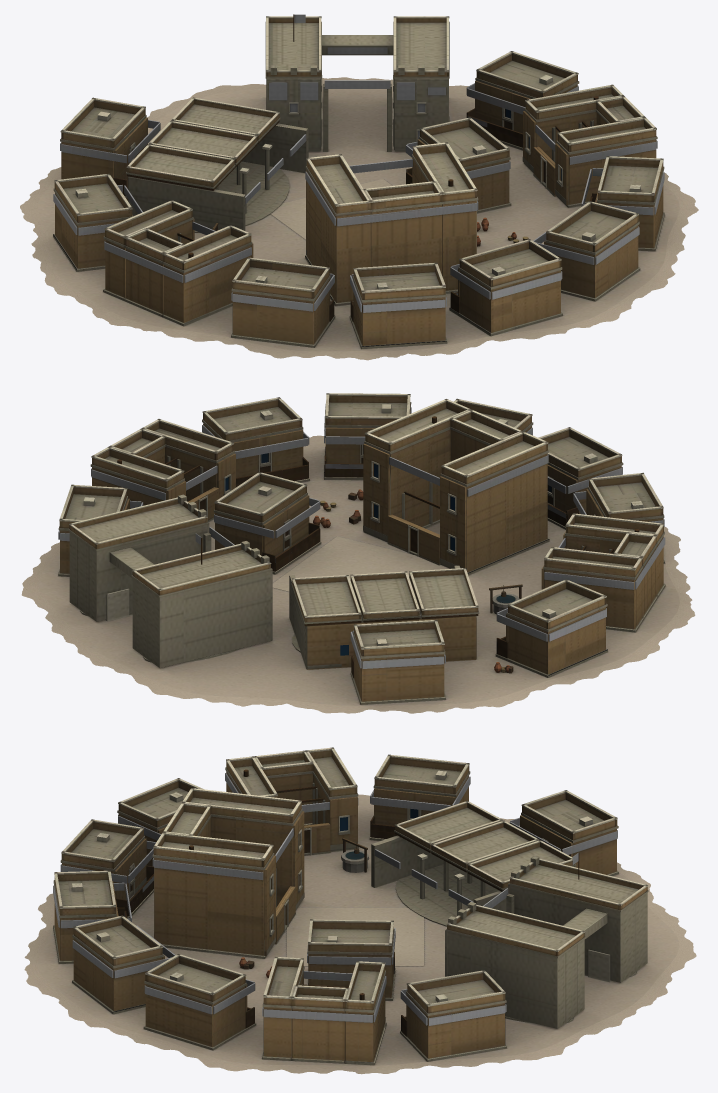
File: bronze-town-medium-b-israelite-d47275a2.glb
3 views of the same model, one above another, from view 1: azimuth 30°, elevation 25°; view 2: azimuth 150°, elevation 25°; view 3: azimuth 270°, elevation 25° (orthographic).
Visible parts, largest first — view 1: LOD0; view 2: LOD0; view 3: LOD0.
Part boxes in pixels (x1,y1,x2,y2): LOD0: (20,14,698,360); LOD0: (21,393,695,713); LOD0: (24,747,696,1074).
Size of what is drawn, in the model's own units: 5.91 by 1.08 by 6.05.
Materials: 3 (3 with a texture image).
